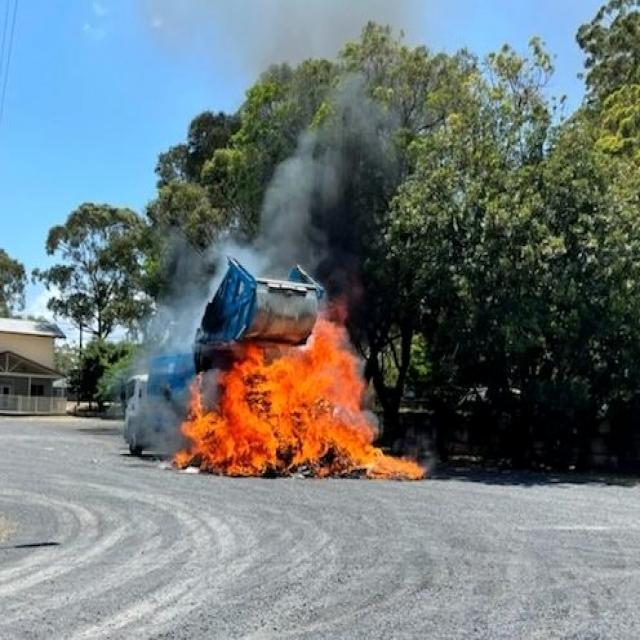Fire: (164, 322, 409, 481)
Smoke: (254, 75, 406, 320), (150, 0, 418, 72)
